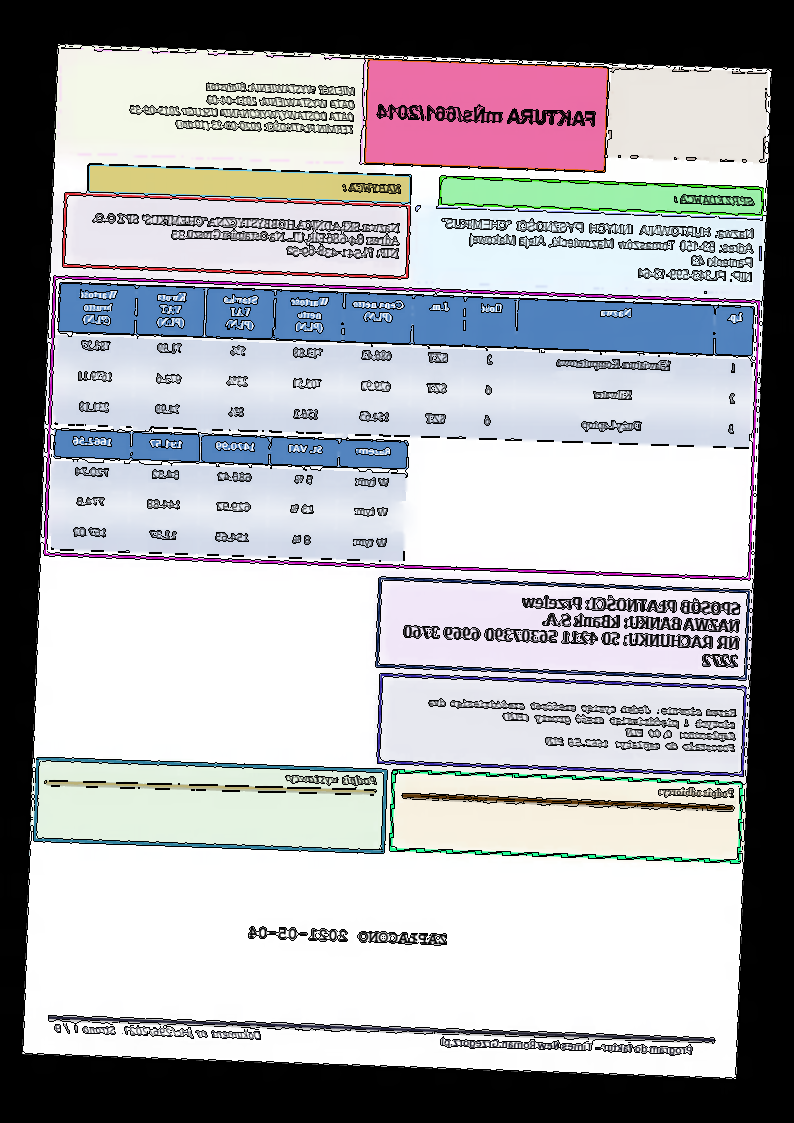Table: (54, 281, 755, 450), (49, 427, 410, 563)
TextBox: (402, 587, 743, 670), (437, 214, 756, 285), (424, 694, 739, 755), (89, 209, 403, 262), (128, 76, 357, 136), (375, 99, 597, 129), (439, 1035, 694, 1059), (246, 923, 449, 948), (54, 1021, 264, 1043), (284, 771, 379, 788), (672, 192, 756, 208), (659, 784, 736, 801), (341, 181, 404, 196)
